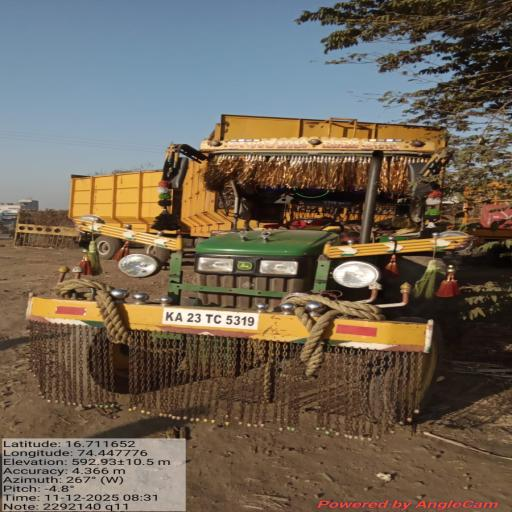number_plate: (156, 303, 280, 337)
